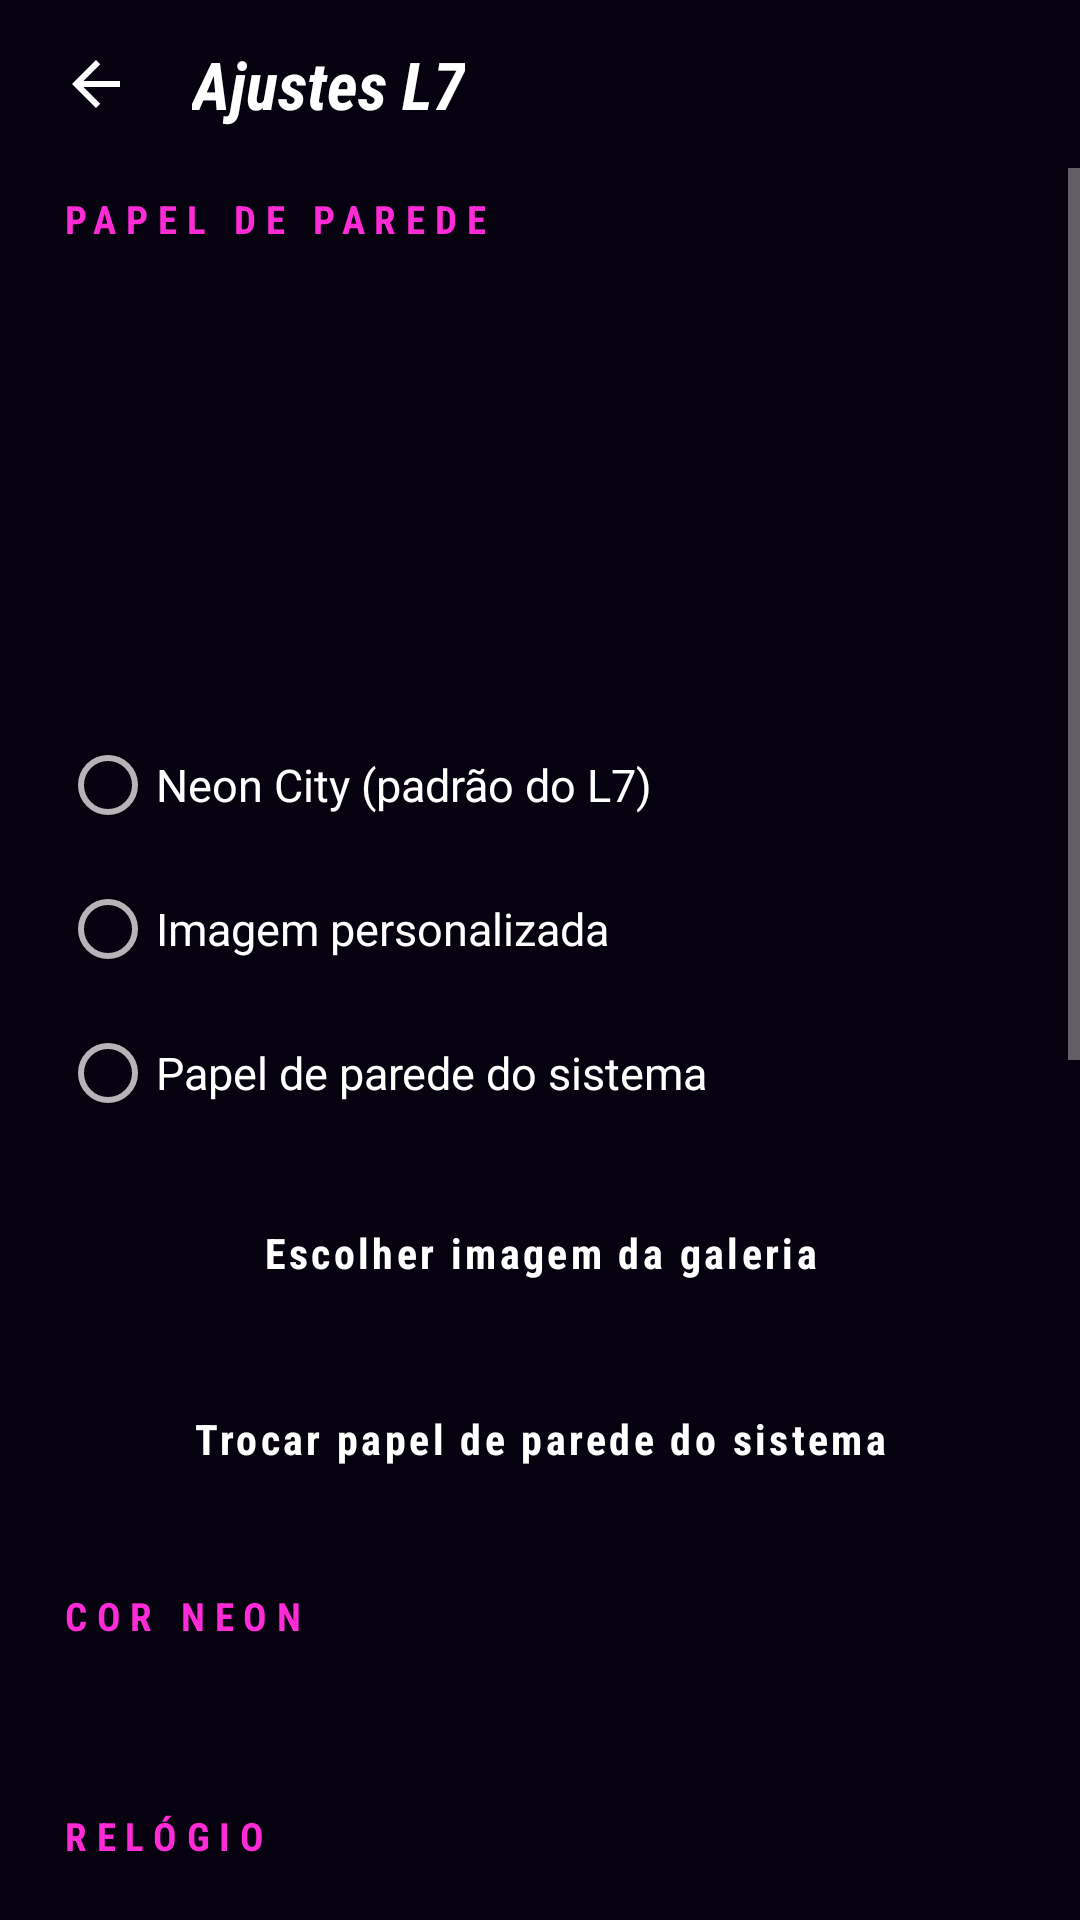

Where to tap for icons on this 1080px×1920px app screen, as (x,y):
Voltar: (96,84)
